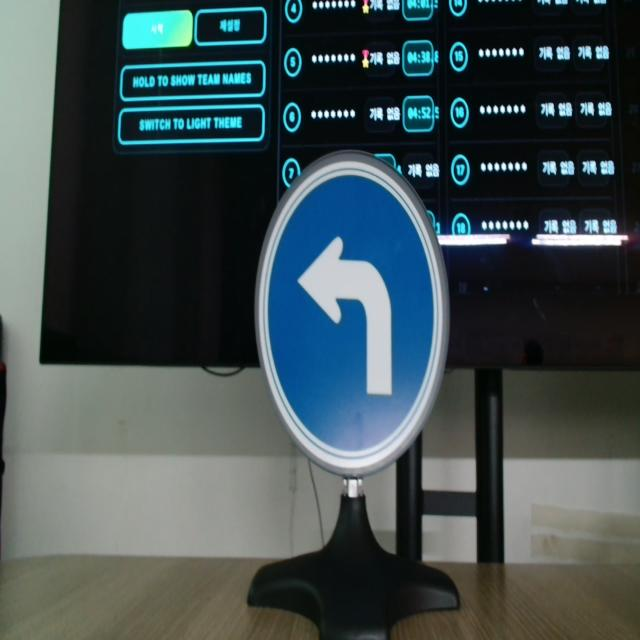left_direction: (252, 148, 454, 490)
